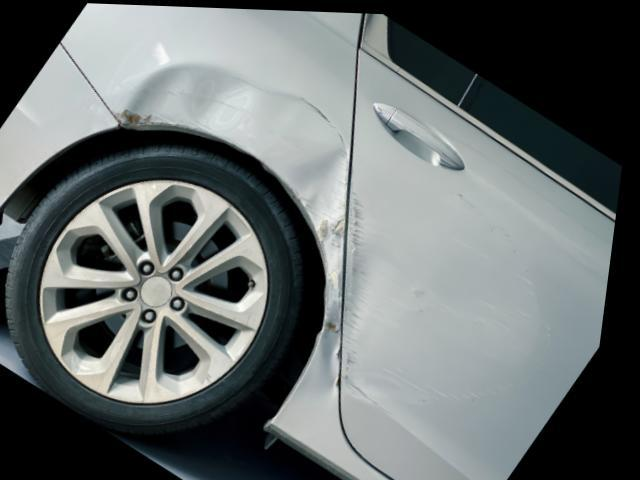dent: (123, 64, 351, 280)
scratch: (350, 184, 567, 406)
